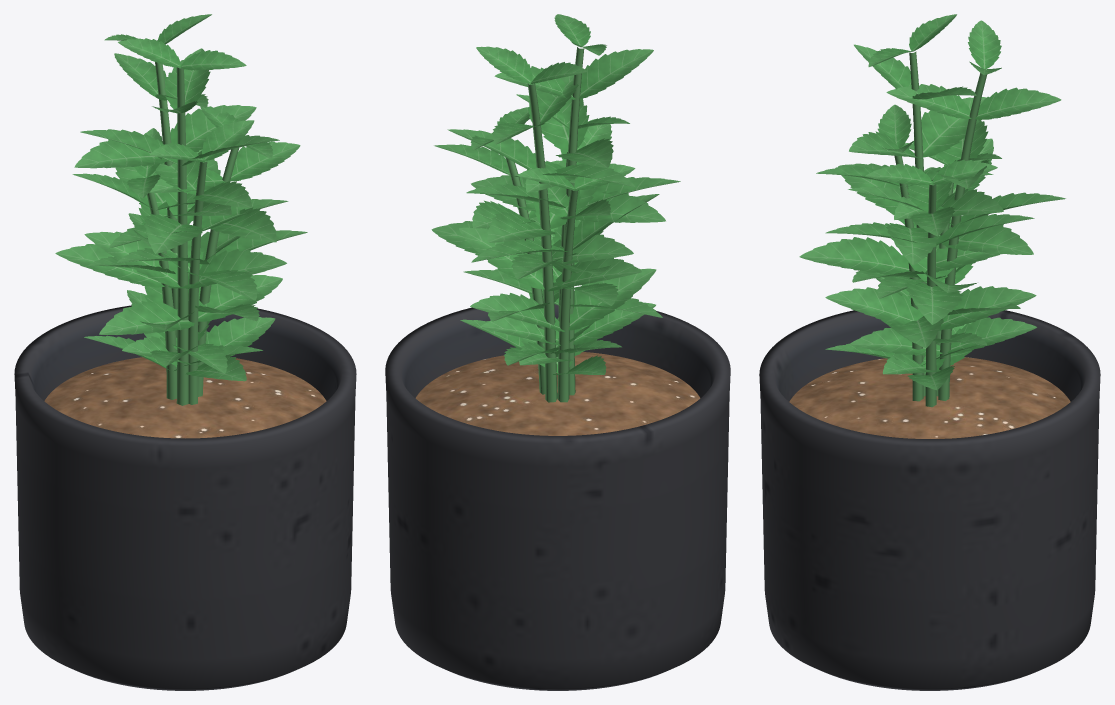
File: mint.glb
The picture shows the model from 3 angles, left to right: view 1: azimuth 30°, elevation 25°; view 2: azimuth 150°, elevation 25°; view 3: azimuth 270°, elevation 25°; orthographic projection.
Visible parts, largest first — view 1: piece-0, piece-1, piece-62, piece-53, piece-40, piece-21, piece-52, piece-41, piece-20, piece-31, piece-2, piece-10 (+23 smaller); view 2: piece-0, piece-1, piece-62, piece-28, piece-46, piece-56, piece-29, piece-16, piece-17, piece-19, piece-6, piece-20 (+29 smaller); view 3: piece-0, piece-1, piece-62, piece-55, piece-5, piece-4, piece-44, piece-22, piece-32, piece-14, piece-7, piece-23 (+24 smaller).
Part boxes in pixels (box(x1,y1,x2,y2)): piece-0: box(14, 305, 356, 690); piece-1: box(44, 357, 326, 438); piece-62: box(147, 62, 239, 405); piece-53: box(99, 301, 194, 334); piece-40: box(186, 249, 286, 288); piece-21: box(74, 139, 168, 168); piece-52: box(198, 275, 282, 321); piece-41: box(84, 231, 180, 286); piece-20: box(170, 105, 256, 152); piece-31: box(55, 244, 164, 287); piece-2: box(205, 317, 275, 356); piece-10: box(225, 141, 300, 181); piece-0: box(385, 304, 730, 690); piece-1: box(415, 352, 700, 435); piece-62: box(505, 47, 584, 402); piece-28: box(568, 268, 656, 330); piece-46: box(579, 49, 653, 98); piece-56: box(575, 191, 665, 222); piece-29: box(470, 293, 564, 331); piece-16: box(547, 258, 641, 291); piece-17: box(459, 227, 544, 289); piece-19: box(487, 211, 556, 242); piece-6: box(547, 234, 633, 266); piece-20: box(447, 129, 536, 169); piece-0: box(759, 310, 1100, 690); piece-1: box(789, 357, 1070, 438); piece-62: box(894, 51, 987, 407); piece-55: box(799, 237, 910, 274); piece-5: box(825, 287, 923, 326); piece-4: box(939, 286, 1036, 330); piece-44: box(913, 97, 986, 157); piece-22: box(974, 87, 1061, 119); piece-32: box(942, 224, 1033, 254); piece-14: box(947, 317, 1036, 353); piece-7: box(905, 280, 962, 324); piece-23: box(886, 84, 971, 119).
Size of the model in its own units: 0.161 by 0.3074 by 0.161.
Materials: 4 (3 with a texture image).
